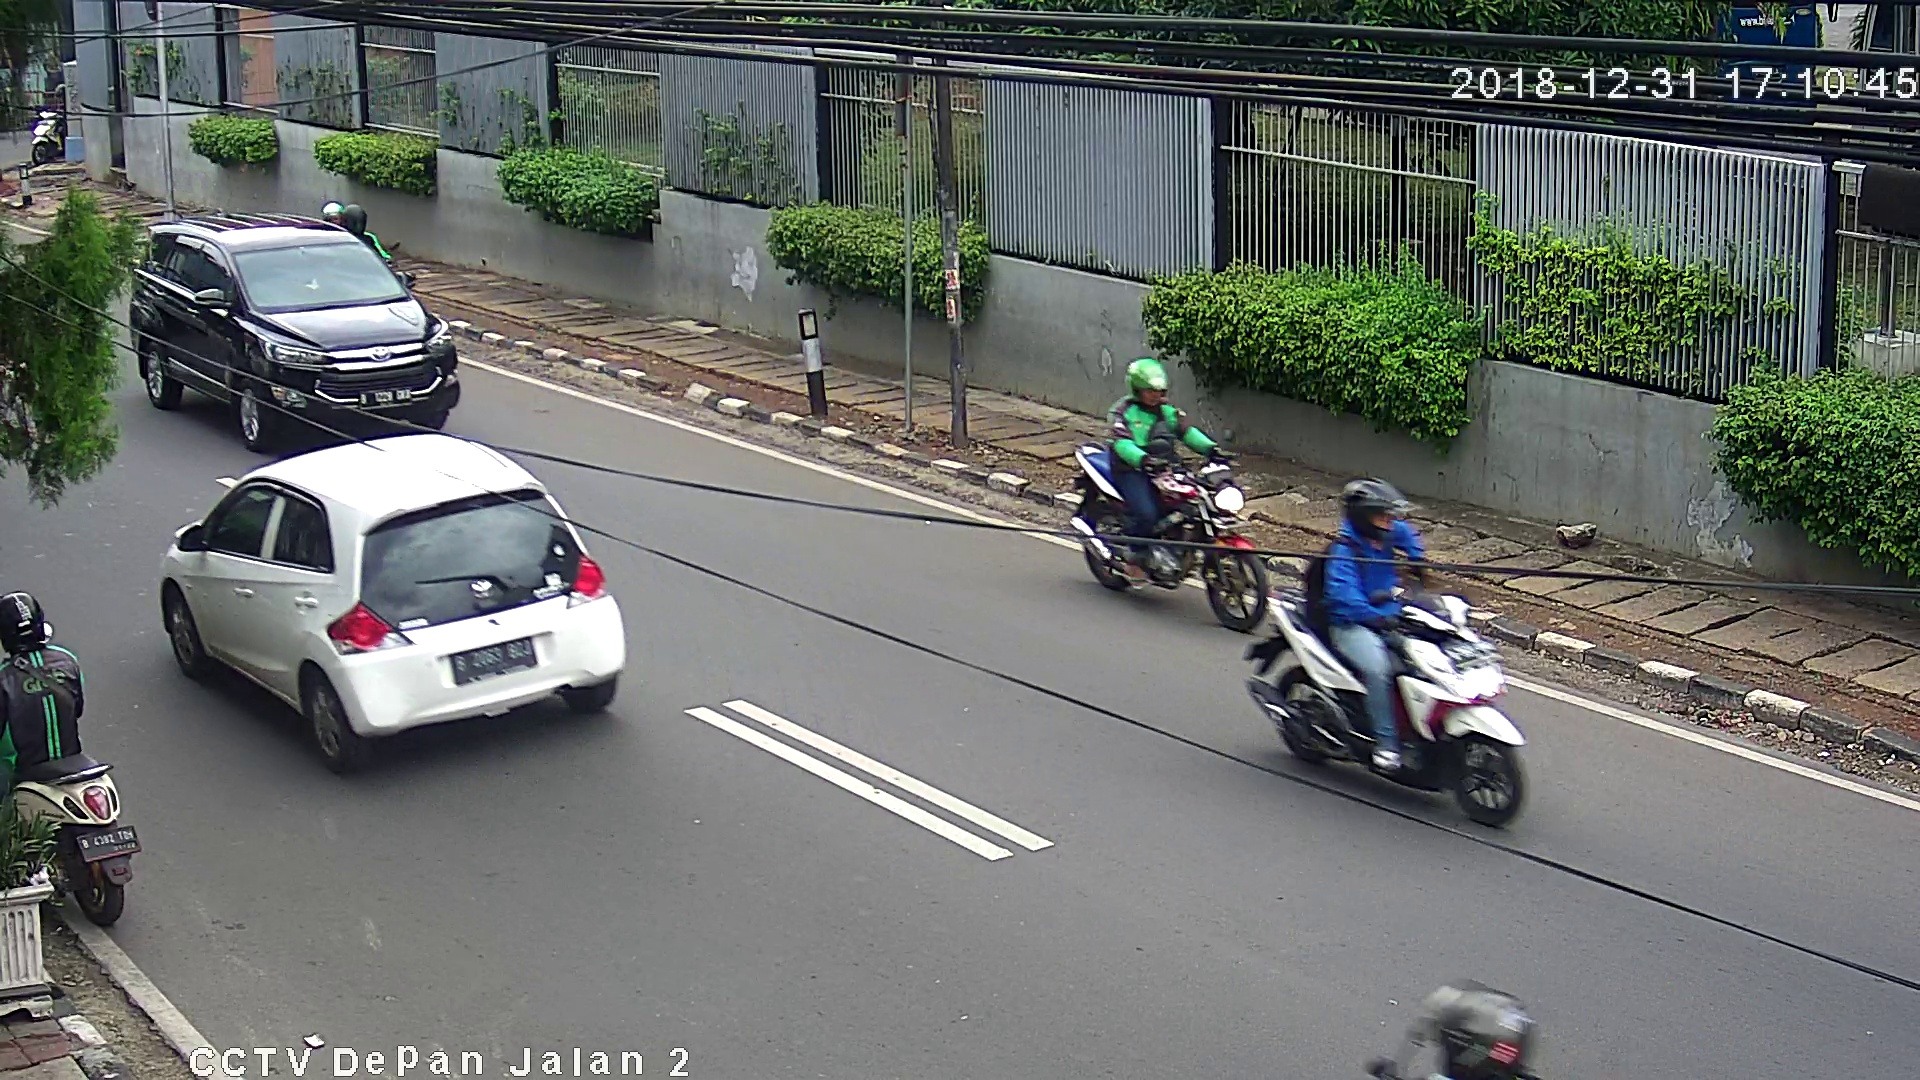car: (160, 436, 637, 773), (131, 218, 468, 444)
motorcycle: (1247, 473, 1531, 843), (1072, 353, 1269, 642), (3, 589, 141, 940)
